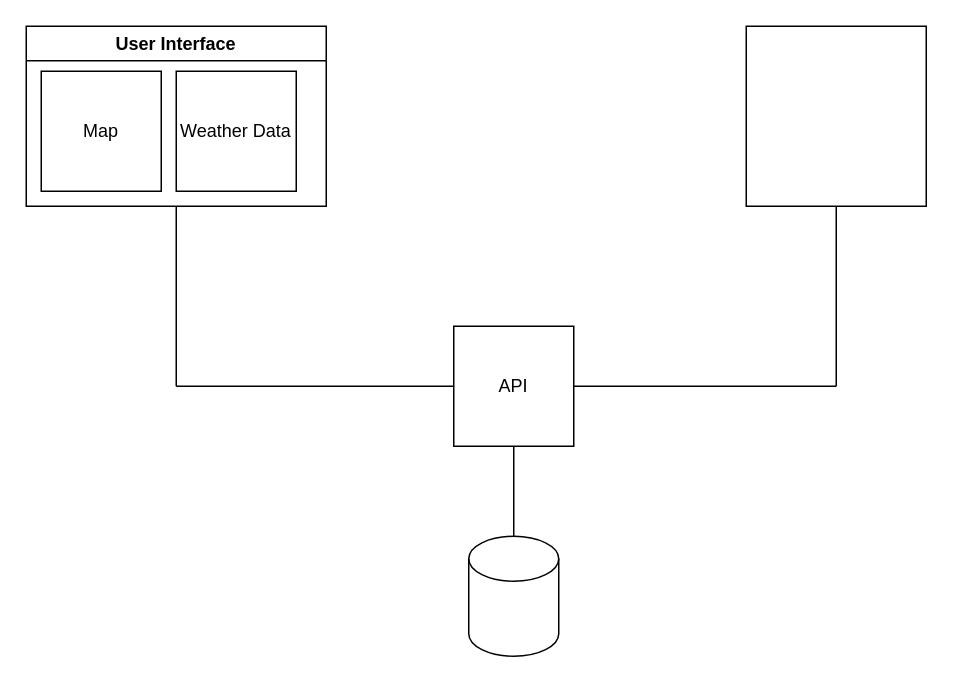
The diagram is 953 pixels wide and 683 high, and some of its shapes have lost their labels. The shapes that lost their labels are listed below. From the top down, each one's centre as x and y in pixels, then its label:
At point (835, 115): "YR API".
At point (513, 595): "Forecast data".
